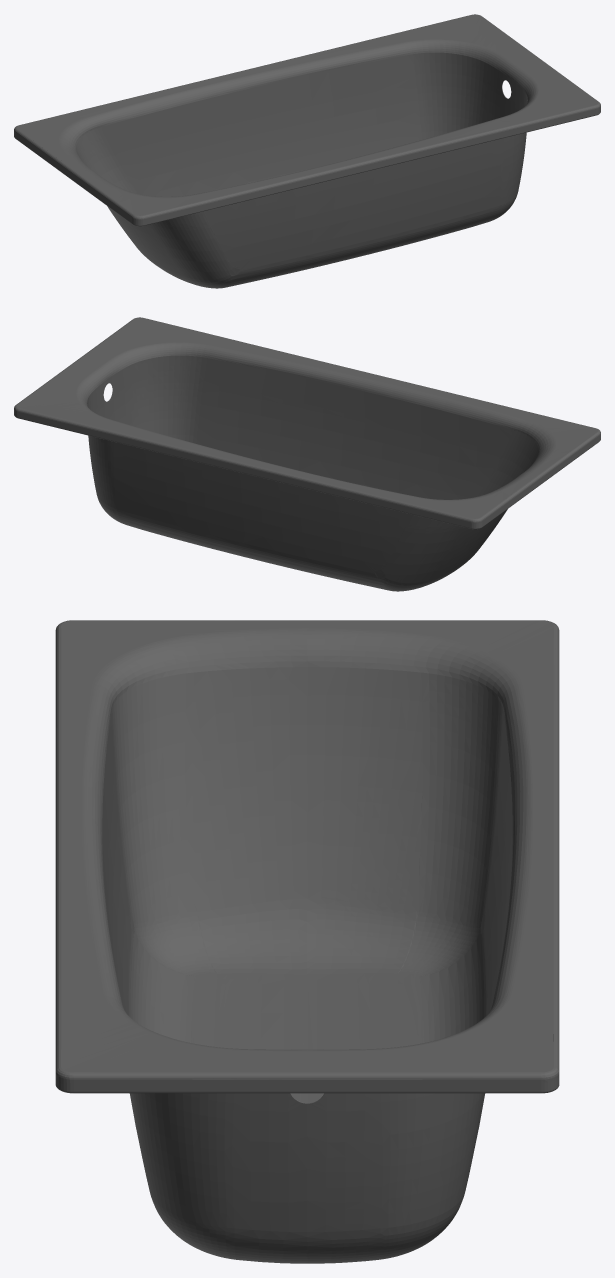
Rendered from AEC_48659.glb.
3 views of the same model, one above another, from view 1: azimuth 30°, elevation 25°; view 2: azimuth 150°, elevation 25°; view 3: azimuth 270°, elevation 25° (orthographic). The views are drawn at different scales.
Visible parts, largest first — view 1: 0; view 2: 0; view 3: 0.
Boxes of the visible parts, x1,y1,x2,y2 form: 0: [14, 14, 600, 288]; 0: [14, 317, 600, 591]; 0: [55, 620, 559, 1263].
Bounding box in the file's own units: 1.5 × 0.3899 × 0.6999.
1 material, 1 textured.
